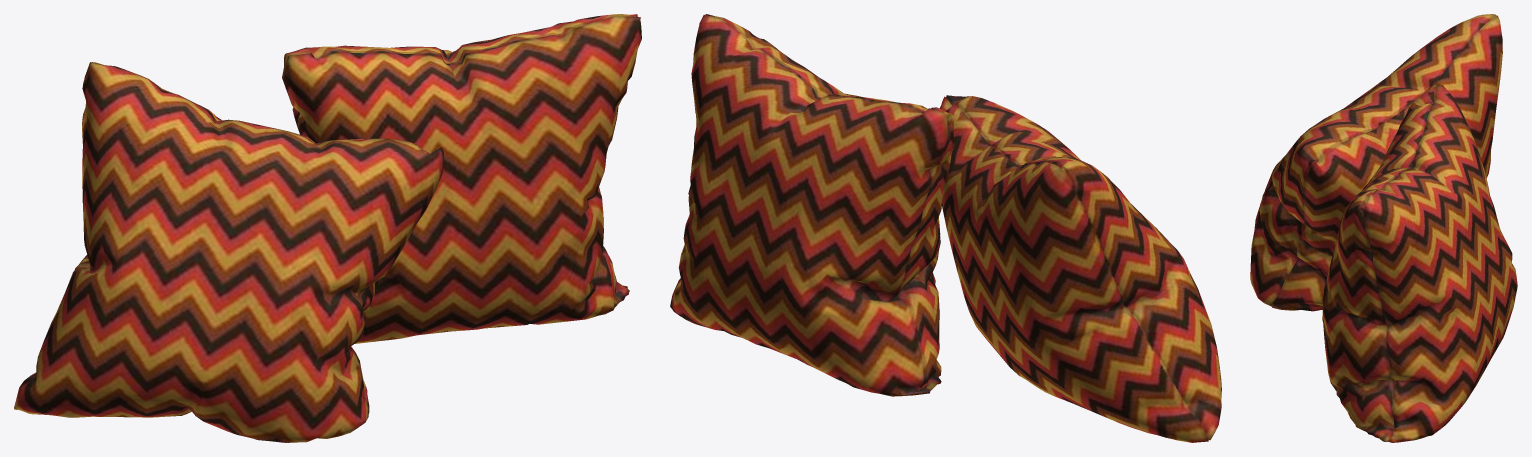
3 views of the same model, side by side, from view 1: azimuth 30°, elevation 25°; view 2: azimuth 150°, elevation 25°; view 3: azimuth 270°, elevation 25° (orthographic). The views are drawn at different scales.
Visible parts, largest first — view 1: throw_pillows_01_pillow01, throw_pillows_01_pillow02; view 2: throw_pillows_01_pillow02, throw_pillows_01_pillow01; view 3: throw_pillows_01_pillow02, throw_pillows_01_pillow01.
Boxes of the visible parts, x1,y1,x2,y2 form: throw_pillows_01_pillow01: (14, 62, 443, 442); throw_pillows_01_pillow02: (282, 14, 641, 343); throw_pillows_01_pillow02: (670, 14, 953, 396); throw_pillows_01_pillow01: (939, 95, 1221, 442); throw_pillows_01_pillow02: (1322, 84, 1517, 442); throw_pillows_01_pillow01: (1250, 14, 1502, 311).
Size of the model in its own units: 0.9401 by 0.4502 by 0.4519.
1 material, 1 textured.
